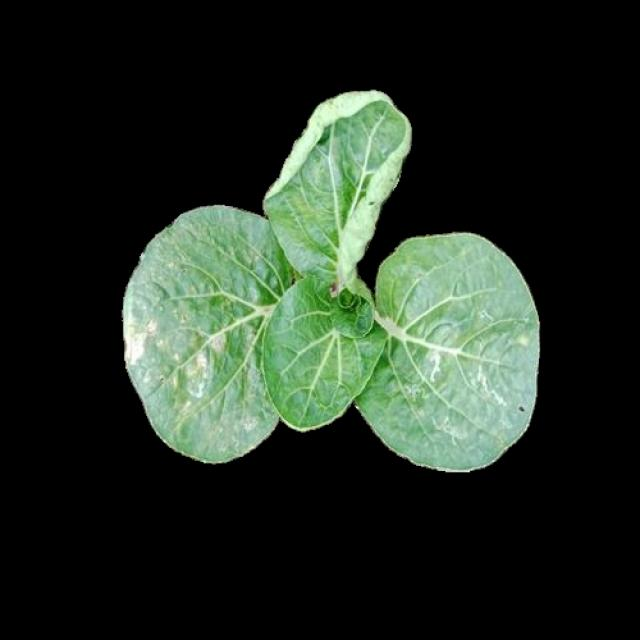not-mature: (124, 86, 538, 473)
unhealthy: (358, 233, 538, 470), (125, 205, 283, 462)
